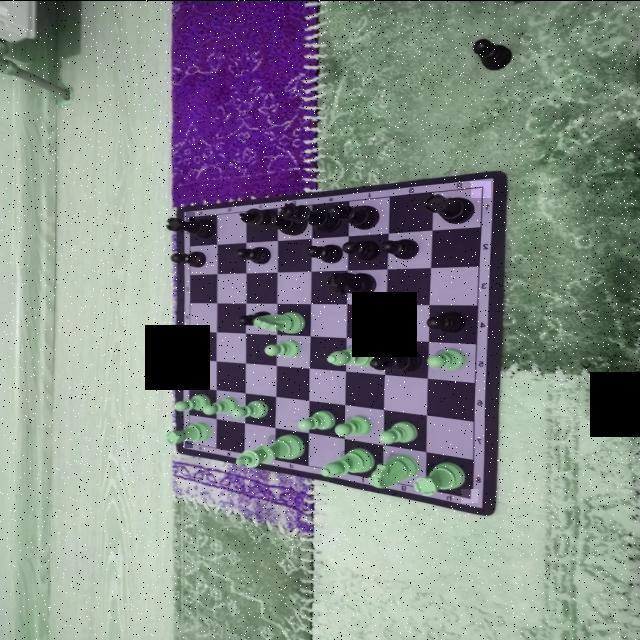chess-table-corners: (471, 180, 491, 197), (462, 488, 479, 502), (186, 211, 195, 220), (186, 440, 193, 447)
